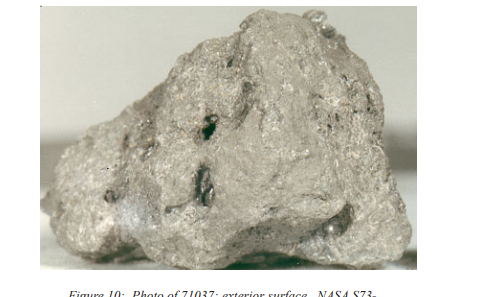Basalt: (109, 62, 393, 256), (181, 112, 341, 238)
